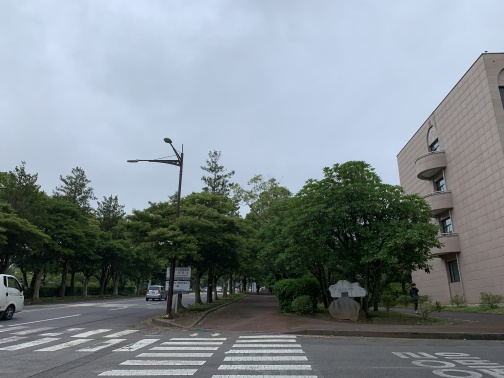Natural Science2: (391, 43, 502, 317)
